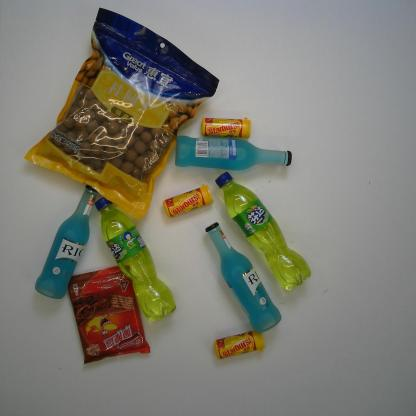Alcohol: (204, 221, 282, 334), (33, 182, 101, 299), (173, 134, 293, 172)
Candy: (160, 182, 215, 220), (212, 329, 268, 361), (198, 116, 253, 141)
Dessert: (64, 261, 152, 366)
Dried Food: (21, 3, 222, 224)
Drink: (213, 168, 313, 293), (92, 193, 177, 323)
